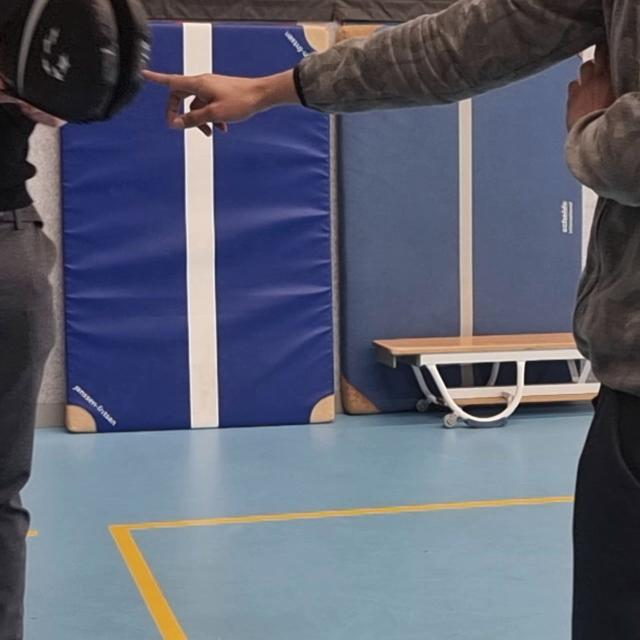paddle: (0, 0, 152, 128)
